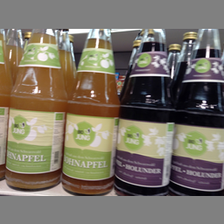juice: (56, 29, 120, 194), (115, 29, 176, 195), (5, 28, 67, 191), (169, 30, 224, 194)
